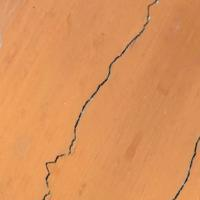crack: (36, 0, 199, 199)
